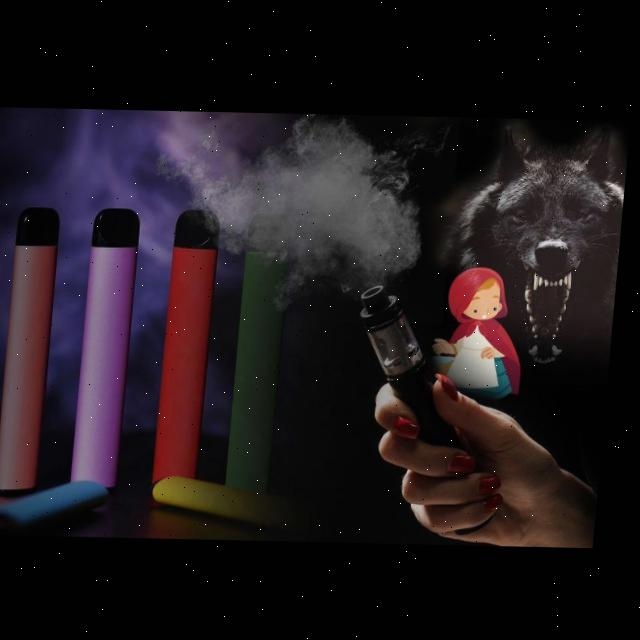vape: (353, 278, 475, 452), (76, 205, 146, 494), (232, 210, 301, 493), (0, 203, 67, 493), (163, 206, 227, 481), (160, 473, 336, 535), (0, 478, 120, 532)
